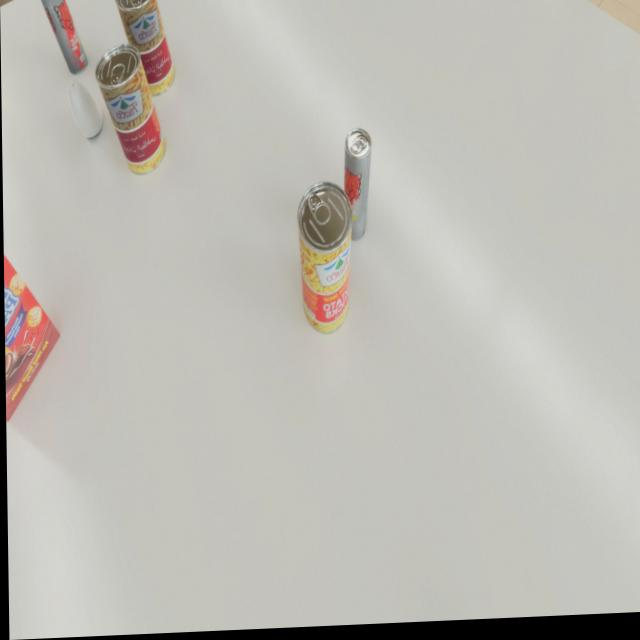Potato_sticks: (95, 44, 166, 178), (296, 184, 353, 338), (115, 0, 175, 98)
Rita_zero_sugar: (38, 0, 88, 76), (341, 131, 372, 244)
Salt: (68, 80, 103, 139)
